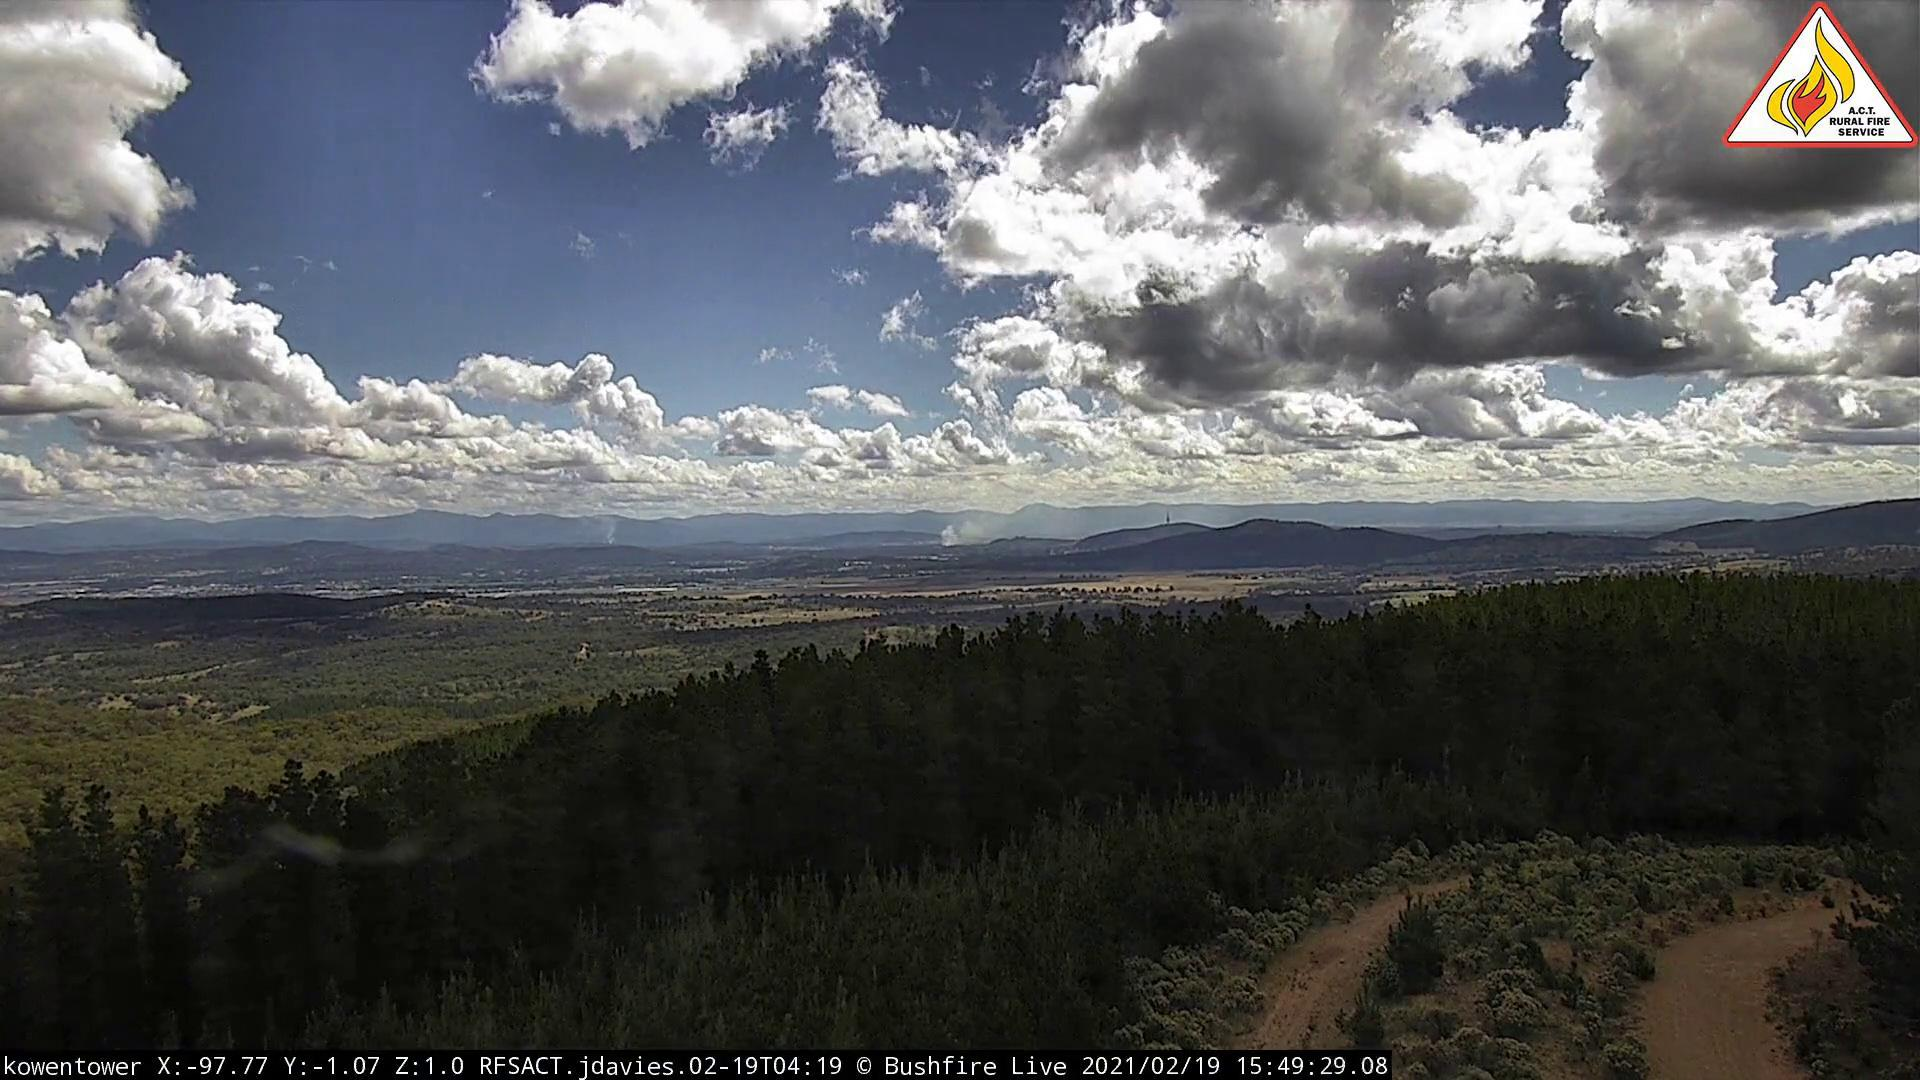Smoke: (936, 506, 1006, 549), (603, 525, 622, 553)
